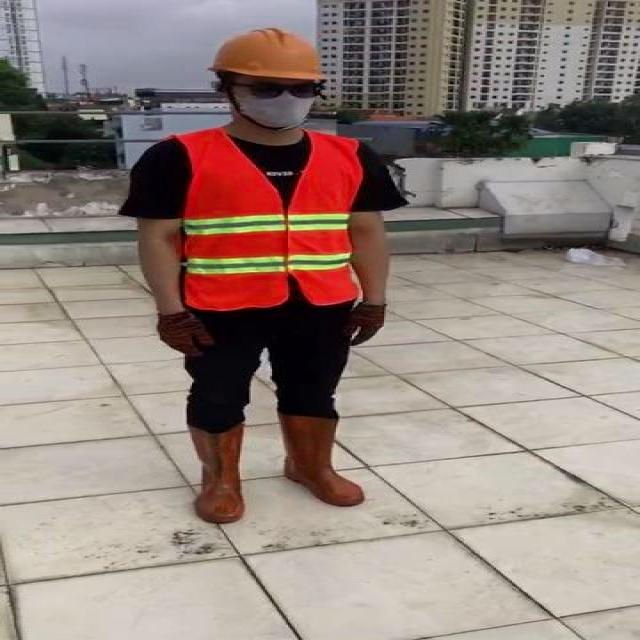boots: (281, 415, 364, 506), (190, 421, 249, 524)
face_mask: (236, 80, 324, 129)
glasses: (239, 77, 333, 103)
hand_glove: (156, 312, 217, 358), (342, 303, 388, 349)
head_helmet: (206, 25, 332, 82)
person: (120, 21, 394, 527)
vest: (182, 131, 364, 311)
